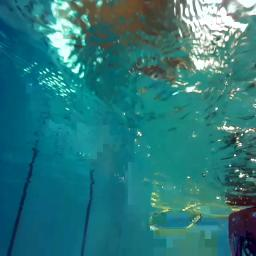Side: (226, 204, 255, 256)
